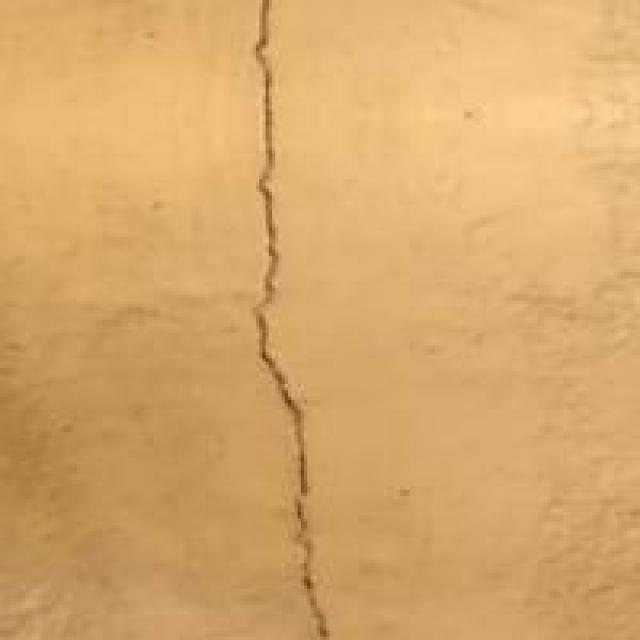crack: (200, 0, 388, 640)
